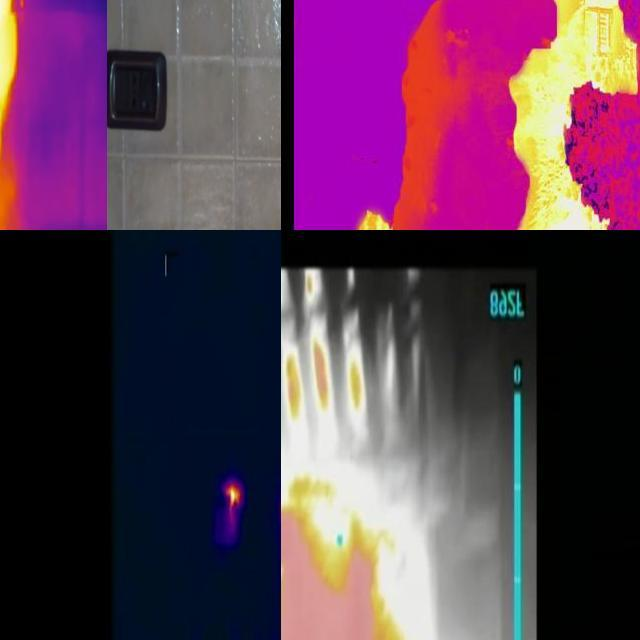fire: (494, 1, 640, 228), (282, 472, 456, 640), (1, 1, 24, 139), (310, 331, 334, 416), (285, 350, 311, 427), (341, 351, 367, 418), (355, 208, 396, 231), (225, 480, 241, 526)
